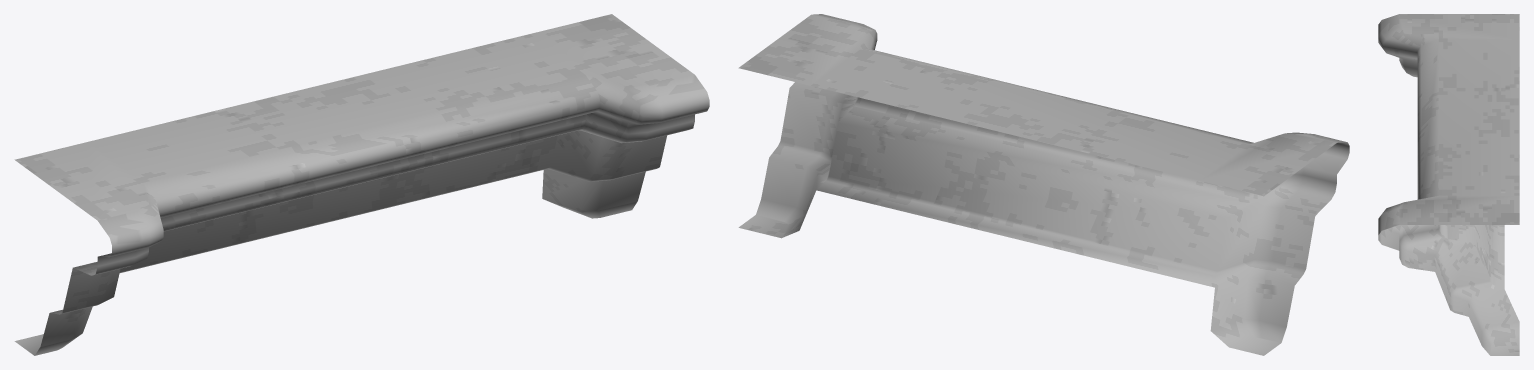
3 views of the same model, side by side, from view 1: azimuth 30°, elevation 25°; view 2: azimuth 150°, elevation 25°; view 3: azimuth 270°, elevation 25° (orthographic). The views are drawn at different scales.
Visible parts, largest first — view 1: Wall_Frame_A.015; view 2: Wall_Frame_A.015; view 3: Wall_Frame_A.015.
Part boxes in pixels (x1,y1,x2,y2): Wall_Frame_A.015: [14, 14, 709, 355]; Wall_Frame_A.015: [738, 14, 1349, 355]; Wall_Frame_A.015: [1378, 14, 1519, 355].
Bounding box in the file's own units: 93488 × 27121 × 26453.
1 material, 1 textured.
